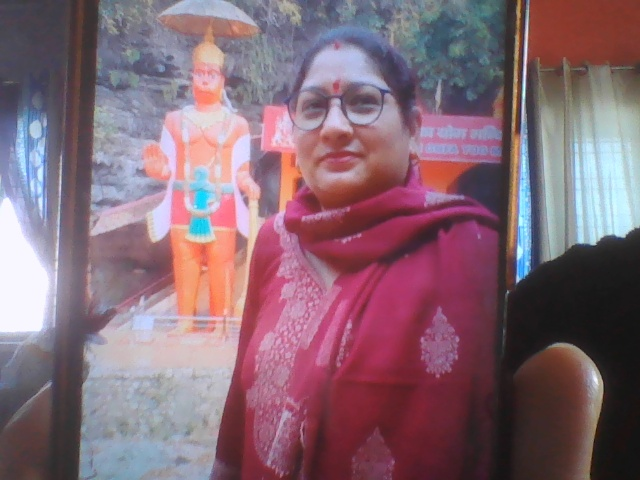fake: (276, 0, 433, 222)
